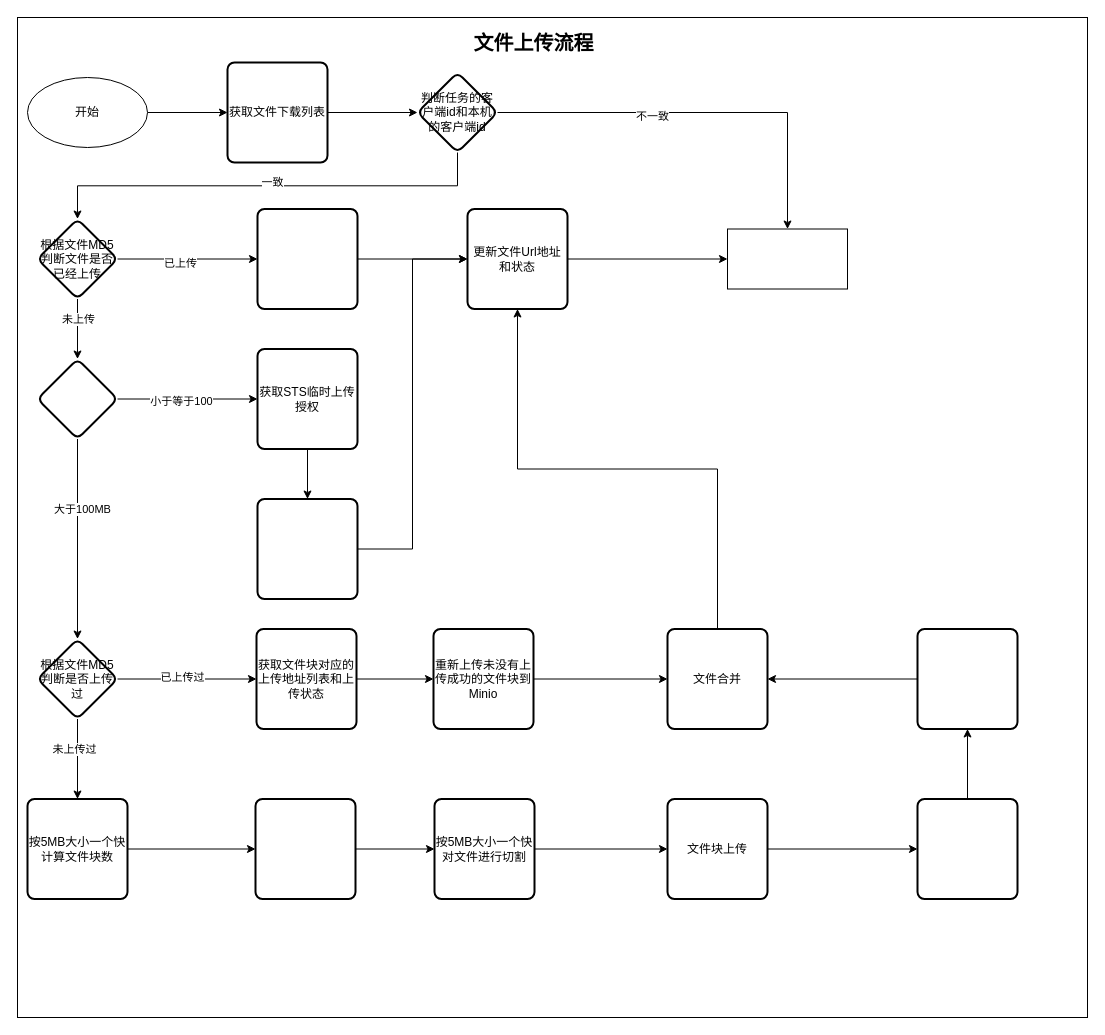
The diagram is 1105 pixels wide and 1035 high, and some of its shapes have lost their labels. Each missing label, with the centre of its shape:
"上传文件到Minio" belongs at point 307,549.
"判断文件是否大于100MB" belongs at point 77,399.
"文件块全部上传完成" belongs at point 967,679.
"服务端记录每个文件块的块数、Md5值，以及上传状态" belongs at point 967,849.
"根据文件块数申请文件上传地址和Upload" belongs at point 305,849.
"结束" belongs at point 787,258.
"获取历史上传文件地址" belongs at point 307,259.
